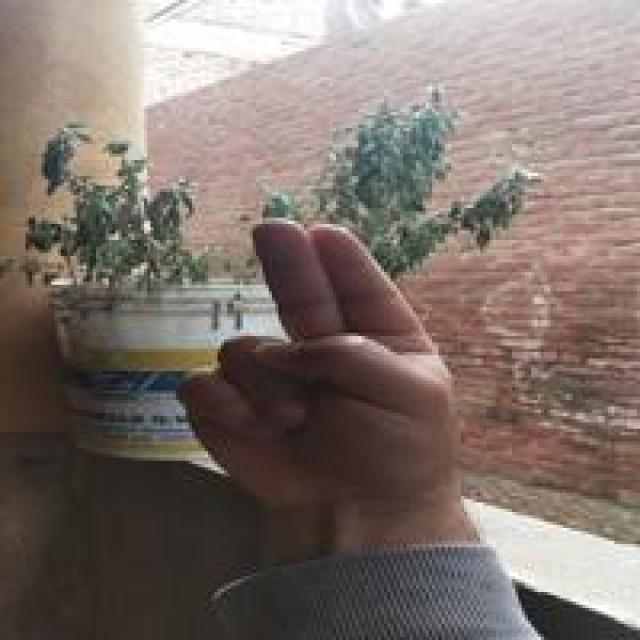U: (173, 213, 470, 494)
